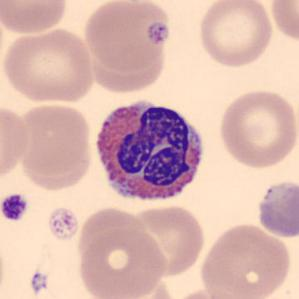Eosinophil: (88, 92, 211, 214)
Platelets: (44, 206, 80, 243), (0, 192, 30, 223), (145, 20, 171, 48), (28, 269, 49, 295)
RBC: (0, 26, 97, 106), (197, 220, 293, 299), (74, 225, 168, 299), (216, 87, 298, 170), (80, 0, 173, 73), (13, 100, 94, 182), (128, 202, 208, 278), (86, 22, 168, 94), (75, 206, 154, 278), (196, 0, 274, 68), (252, 176, 299, 240), (0, 0, 70, 36), (0, 102, 31, 182), (114, 275, 180, 299), (267, 0, 298, 44), (167, 286, 243, 299), (0, 238, 7, 299)
